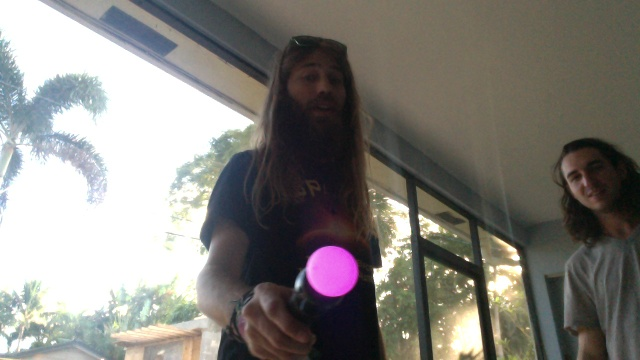wand: (307, 246, 359, 298)
